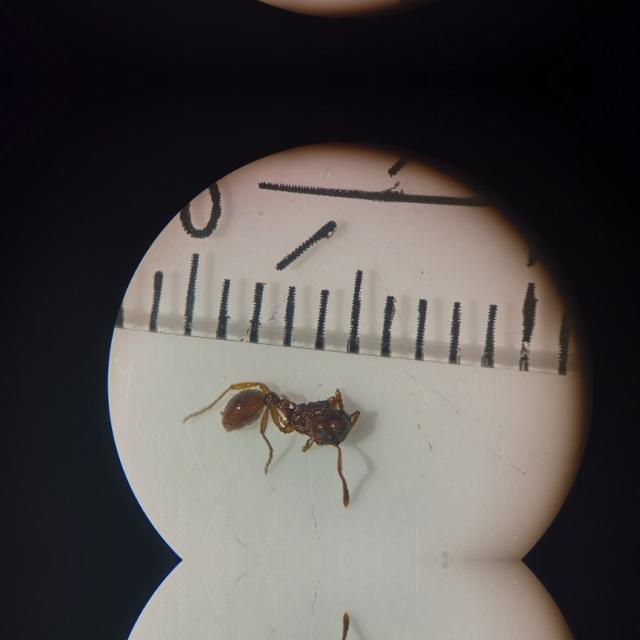Myrmica: (196, 370, 390, 480)
